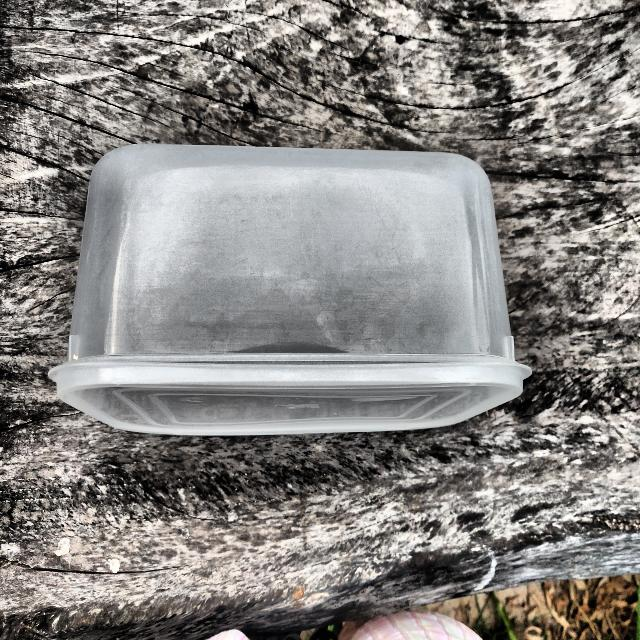plastic container: (52, 134, 518, 439)
